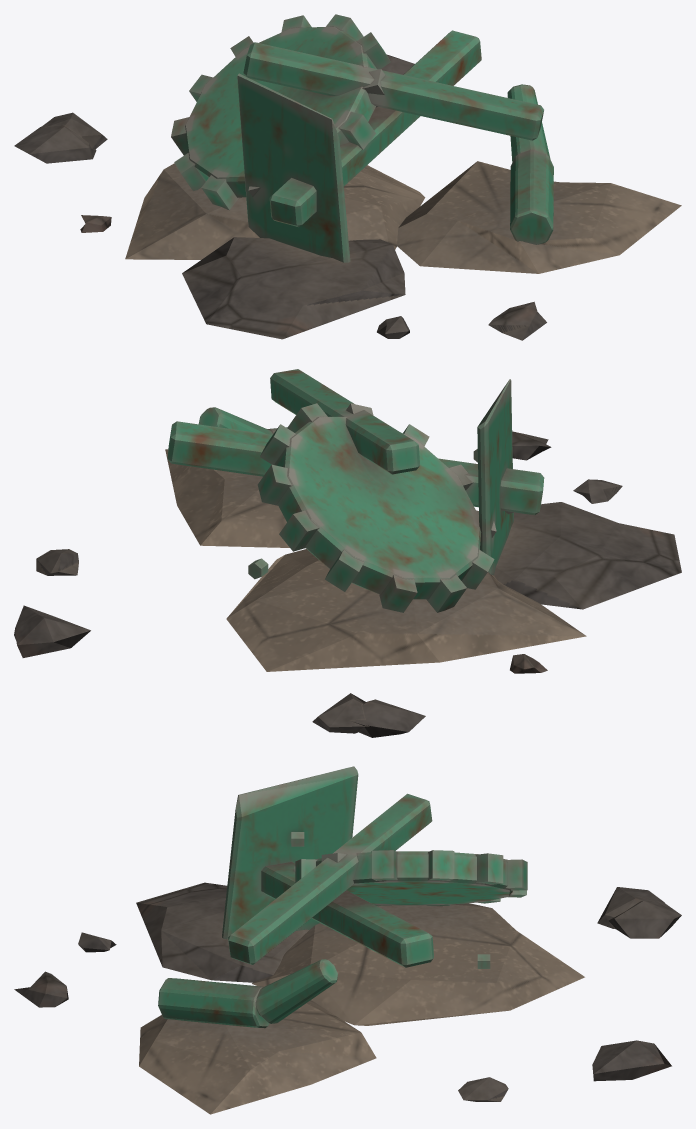
Rendered from map.alloy-node.glb.
The picture shows the model from 3 angles, top to bottom: view 1: azimuth 30°, elevation 25°; view 2: azimuth 150°, elevation 25°; view 3: azimuth 270°, elevation 25°; orthographic projection. The views are drawn at different scales.
Parts seen in each view (by area): view 1: alloy-node; view 2: alloy-node; view 3: alloy-node.
Boxes of the visible parts, x1,y1,x2,y2 form: alloy-node: (14, 14, 681, 340); alloy-node: (14, 369, 681, 737); alloy-node: (14, 766, 681, 1114).
Bounding box in the file's own units: 0.6781 × 0.2297 × 0.825.
Materials: 1 (1 with a texture image).
